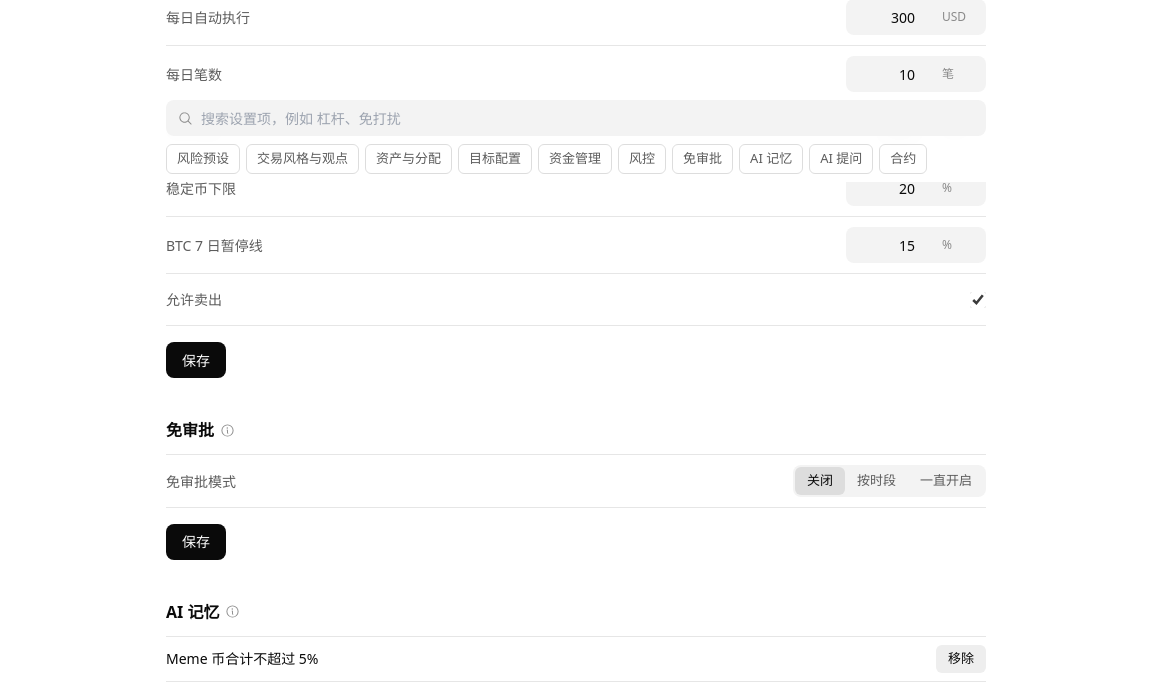
Test: Config page (配置) › can put the new round off
This screenshot has width=1152, height=694.
(page scrolled)
Step 1. Click the button "保存" below "允许卖出" → [196, 360], box x1=166 y1=342 x2=226 y2=378
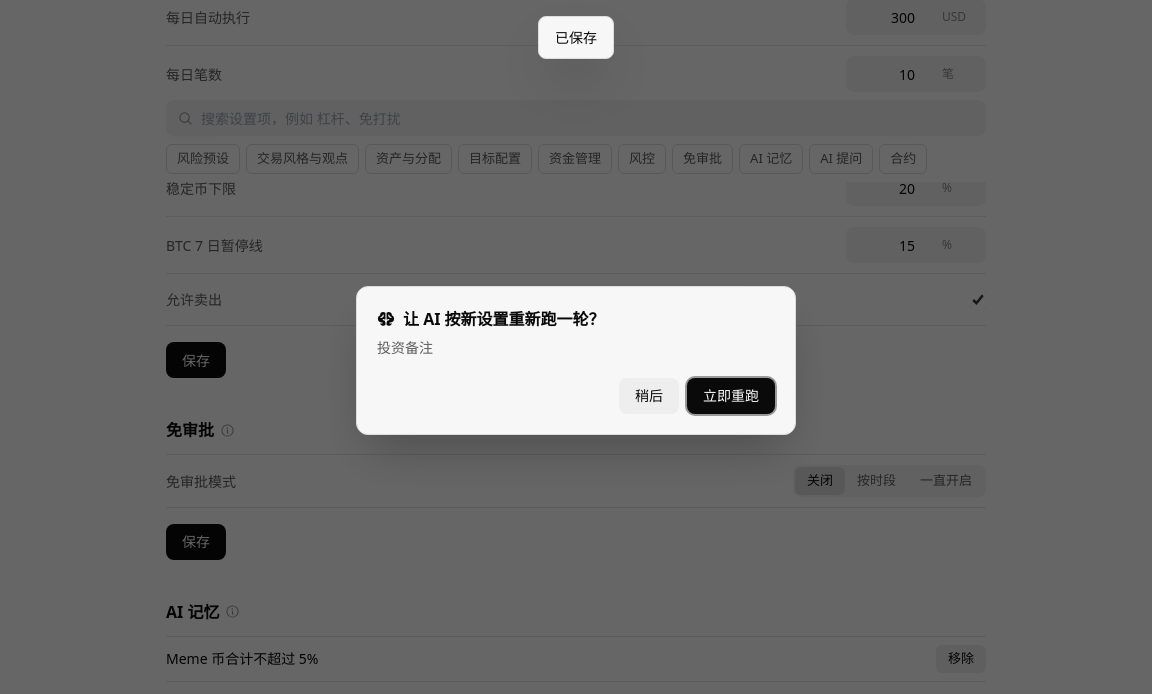
Step 2. Click the button "稍后" → [649, 396], box x1=619 y1=378 x2=679 y2=414
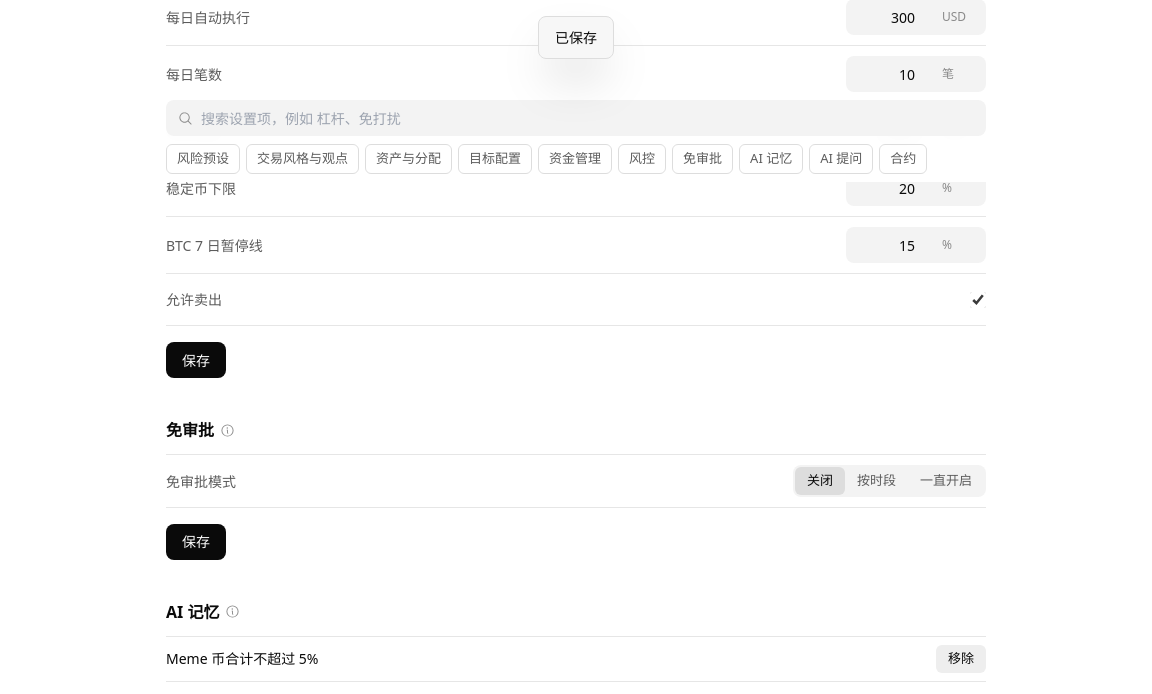
expect the dialog is gone: met
